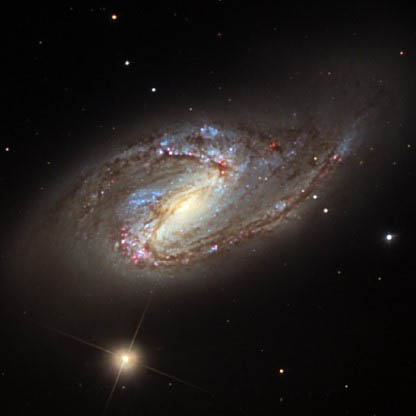Messier 66: (25, 99, 388, 384)
